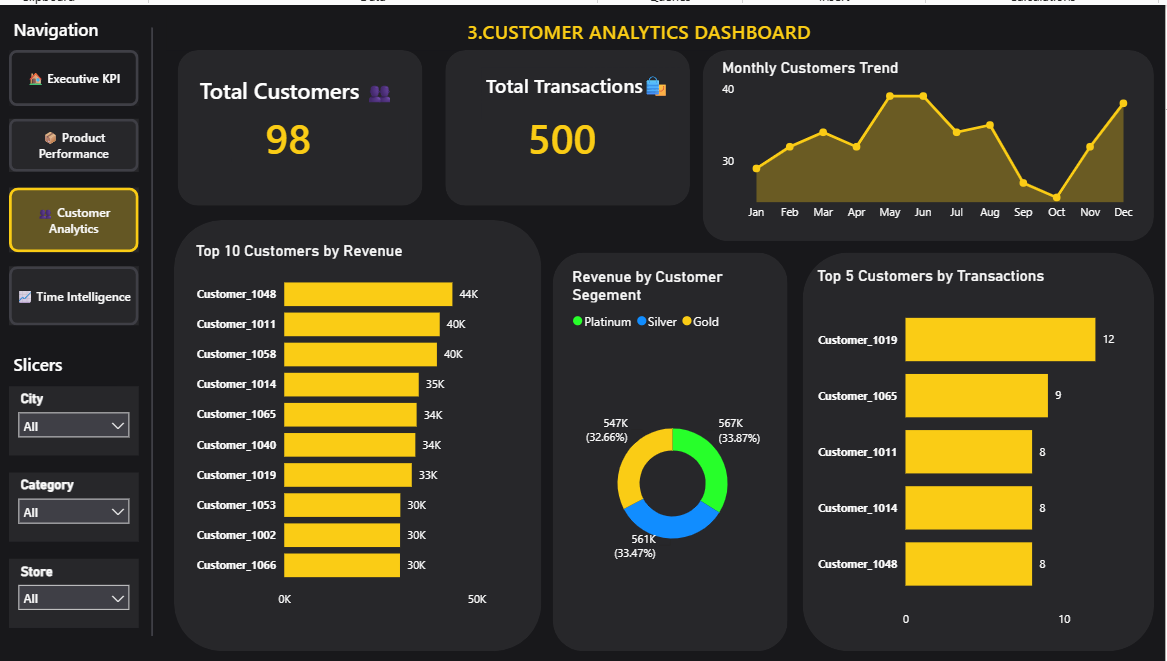

The dashboard page shown, as its layout file describes it:
{"tool":"powerbi","page":{"name":"Customer Analytics","canvas":[1280,720],"ordinal":3},"visuals":[{"type":"textbox","box":[10.7,9.5,118.4,40.3],"z":0},{"type":"actionButton","box":[10.7,49.7,142.1,61.6],"z":1000},{"type":"actionButton","box":[10.7,124.4,142.1,58],"z":2000},{"type":"actionButton","box":[10.7,200.1,142.1,71.1],"z":3000},{"type":"actionButton","box":[10.7,286.6,142.1,65.1],"z":4000},{"type":"textbox","box":[10.7,377.8,118.4,40.3],"z":5000},{"type":"slicer","fields":{"Values":["Fact_Sales.City"]},"box":[10.7,418.1,142.1,75.8],"z":6000},{"type":"slicer","fields":{"Values":["Fact_Sales.Category"]},"box":[10.7,512.8,142.1,75.8],"z":7000},{"type":"slicer","fields":{"Values":["Fact_Sales.Store"]},"box":[10.7,607.5,142.1,75.8],"z":8000},{"type":"shape","box":[99.5,24.9,138.6,667.9],"z":9000},{"type":"textbox","box":[183.6,9.5,1037.5,40.3],"z":10000},{"type":"shape","box":[196.5,50,268.6,170.9],"z":11000},{"type":"cardVisual","fields":{"Data":["Fact_Sales.Total_Customers"]},"box":[254.7,98.8,193,73.3],"z":12000},{"type":"textbox","box":[215.1,72.1,232.6,52.3],"z":13000},{"type":"shape","box":[489.5,50,268.6,170.9],"z":14000},{"type":"cardVisual","fields":{"Data":["Fact_Sales.Total_Trans"]},"box":[543,98.8,193,73.3],"z":15000},{"type":"textbox","box":[529.1,68.6,220.9,55.8],"z":16000},{"type":"shape","box":[772.6,49.4,495.4,209.9],"z":17000},{"type":"shape","box":[607.9,271.7,258,437.7],"z":18000},{"type":"shape","box":[192.1,236,403.4,473.4],"z":19000},{"type":"shape","box":[882.3,271.7,385.6,437.7],"z":20000},{"type":"clusteredBarChart","title":"Top 10 Customers by Revenue","fields":{"Y":["Fact_Sales.Total_Revenue"],"Category":["Fact_Sales.Customer_Name"]},"box":[211.3,259.3,370.5,411.7],"z":21000},{"type":"clusteredBarChart","title":"Top 5 Customers by Transactions","fields":{"Category":["Fact_Sales.Customer_Name"],"Y":["Fact_Sales.Total_Trans"]},"box":[893.3,286.8,374.6,406.2],"z":22000},{"type":"donutChart","title":"Revenue by Customer Segement","fields":{"Y":["Fact_Sales.Total_Revenue"],"Category":["Fact_Sales.Customer_Segment"]},"box":[624.4,288.2,230.5,406.2],"z":23000},{"type":"areaChart","title":"Monthly Customers Trend ","fields":{"Category":["Calendar.Month"],"Y":["Fact_Sales.Total_Customers"]},"box":[789,59,465.2,186.6],"z":24000}]}

Visuals, with their boxes on the page's 1280x720 design canvas (x1, y1, x2, y2). These are canvas units, not pixel positions in the 1167x661 screenshot, which may show the page scaled, cropped or inside an application window:
textbox: [x1=11, y1=10, x2=129, y2=50]
actionButton: [x1=11, y1=50, x2=153, y2=111]
actionButton: [x1=11, y1=124, x2=153, y2=182]
actionButton: [x1=11, y1=200, x2=153, y2=271]
actionButton: [x1=11, y1=287, x2=153, y2=352]
textbox: [x1=11, y1=378, x2=129, y2=418]
slicer - Fact_Sales.City: [x1=11, y1=418, x2=153, y2=494]
slicer - Fact_Sales.Category: [x1=11, y1=513, x2=153, y2=589]
slicer - Fact_Sales.Store: [x1=11, y1=608, x2=153, y2=683]
shape: [x1=100, y1=25, x2=238, y2=693]
textbox: [x1=184, y1=10, x2=1221, y2=50]
shape: [x1=196, y1=50, x2=465, y2=221]
cardVisual - Fact_Sales.Total_Customers: [x1=255, y1=99, x2=448, y2=172]
textbox: [x1=215, y1=72, x2=448, y2=124]
shape: [x1=490, y1=50, x2=758, y2=221]
cardVisual - Fact_Sales.Total_Trans: [x1=543, y1=99, x2=736, y2=172]
textbox: [x1=529, y1=69, x2=750, y2=124]
shape: [x1=773, y1=49, x2=1268, y2=259]
shape: [x1=608, y1=272, x2=866, y2=709]
shape: [x1=192, y1=236, x2=596, y2=709]
shape: [x1=882, y1=272, x2=1268, y2=709]
"Top 10 Customers by Revenue" clusteredBarChart: [x1=211, y1=259, x2=582, y2=671]
"Top 5 Customers by Transactions" clusteredBarChart: [x1=893, y1=287, x2=1268, y2=693]
"Revenue by Customer Segement" donutChart: [x1=624, y1=288, x2=855, y2=694]
"Monthly Customers Trend " areaChart: [x1=789, y1=59, x2=1254, y2=246]
